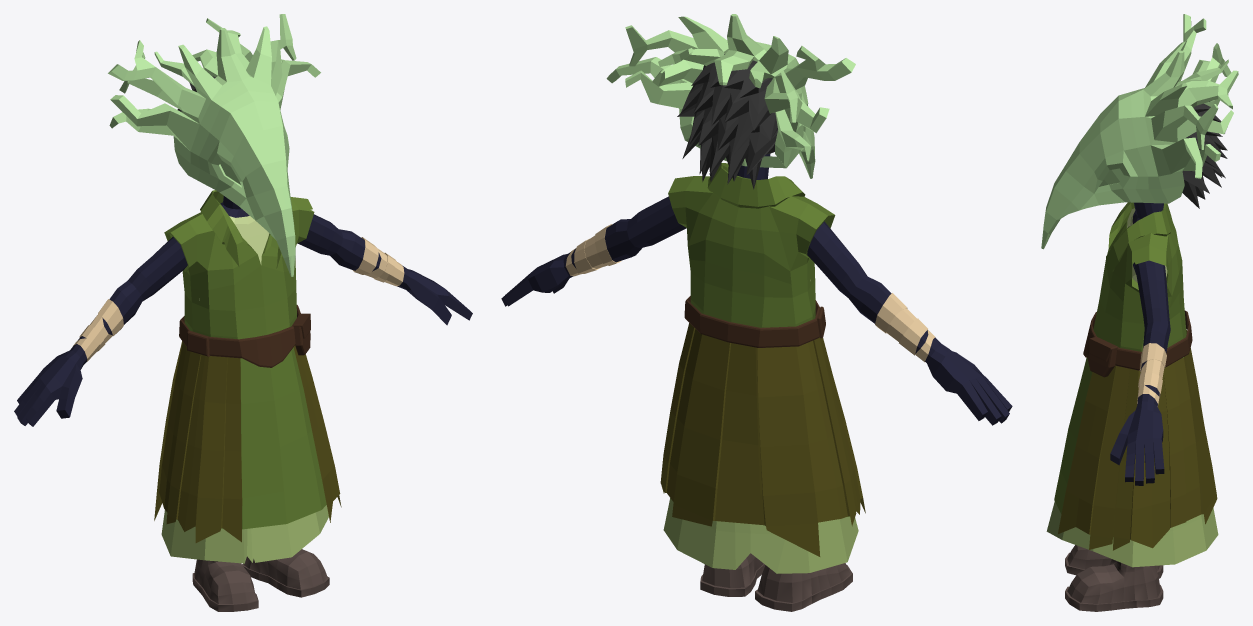
Rendered from healer.fbx.
3 views of the same model, side by side, from view 1: azimuth 30°, elevation 25°; view 2: azimuth 150°, elevation 25°; view 3: azimuth 270°, elevation 25° (orthographic). The views are drawn at different scales.
Parts seen in each view (by area): view 1: Tunic.003, Mask.002, Tunic.001, Body, Circle.006, Dress_2, Belt, Body.001, Shirt; view 2: Tunic.001, Tunic.003, Mask.002, Body, Head, Dress_2, Circle.006, Body.001, Belt; view 3: Tunic.001, Mask.002, Tunic.003, Body, Circle.006, Dress_2, Belt, Head, Body.001.
Boxes of the visible parts, x1,y1,x2,y2 form: Tunic.003: [164, 190, 326, 529]; Mask.002: [108, 14, 320, 276]; Tunic.001: [154, 341, 341, 542]; Body: [14, 196, 472, 426]; Circle.006: [192, 549, 329, 611]; Dress_2: [161, 505, 328, 563]; Belt: [179, 305, 310, 367]; Body.001: [73, 237, 404, 361]; Shirt: [199, 215, 269, 300]; Tunic.001: [660, 323, 865, 556]; Tunic.003: [668, 163, 849, 516]; Mask.002: [606, 14, 855, 178]; Body: [501, 154, 1012, 425]; Head: [677, 54, 777, 189]; Dress_2: [663, 498, 858, 573]; Circle.006: [700, 553, 852, 611]; Body.001: [565, 224, 935, 362]; Belt: [684, 296, 825, 347]; Tunic.001: [1058, 329, 1217, 550]; Mask.002: [1041, 14, 1238, 249]; Tunic.003: [1054, 202, 1186, 513]; Body: [1110, 202, 1170, 485]; Circle.006: [1065, 545, 1163, 611]; Dress_2: [1046, 501, 1218, 567]; Belt: [1083, 310, 1192, 377]; Head: [1182, 101, 1227, 208]; Body.001: [1137, 343, 1166, 406].
Size of the model in its own units: 183 by 208 by 69.7.
